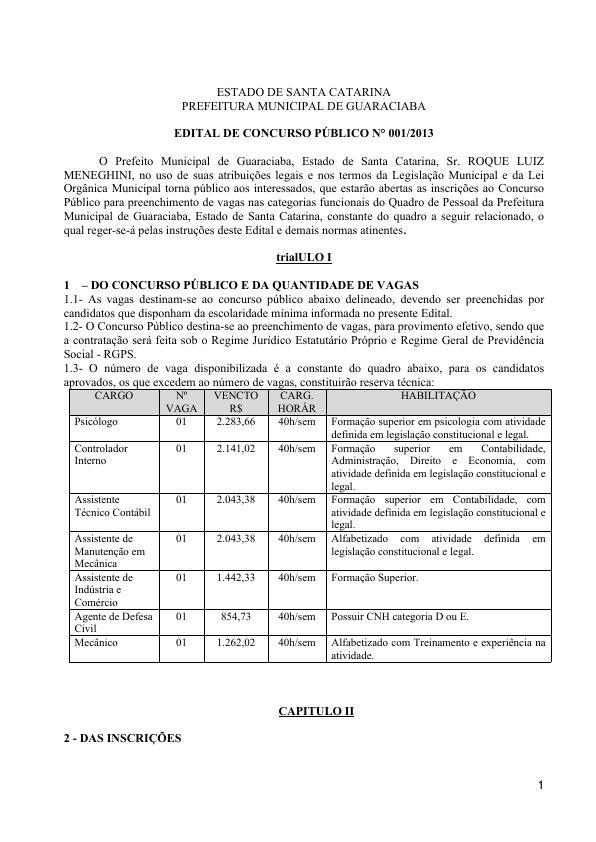table: (68, 388, 554, 665)
text: (63, 281, 547, 388), (59, 152, 546, 237), (180, 81, 428, 114), (175, 126, 435, 140), (63, 731, 183, 747), (277, 704, 358, 720), (275, 250, 338, 267)
